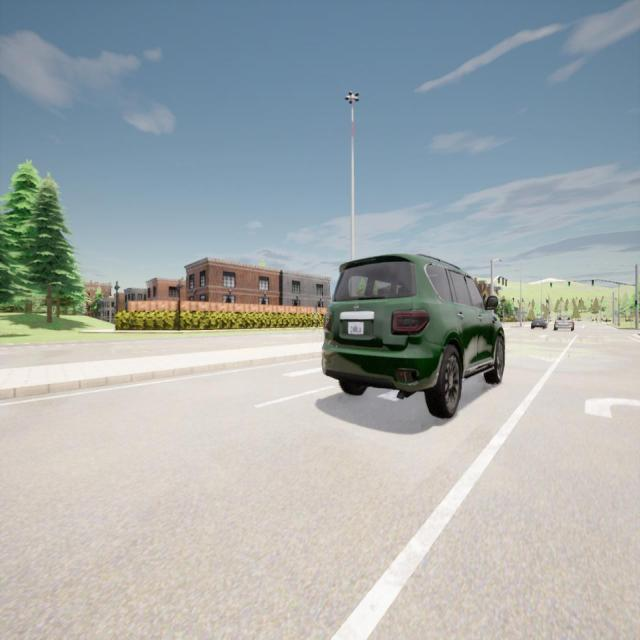Vehicle: (321, 255, 505, 419), (554, 316, 574, 330), (530, 318, 548, 329)
traffic_light: (591, 280, 594, 286), (498, 276, 500, 284), (502, 277, 504, 285), (635, 300, 637, 307), (568, 281, 570, 288), (505, 279, 507, 286), (550, 283, 552, 289), (591, 298, 593, 304), (579, 299, 581, 303), (546, 300, 548, 304)
